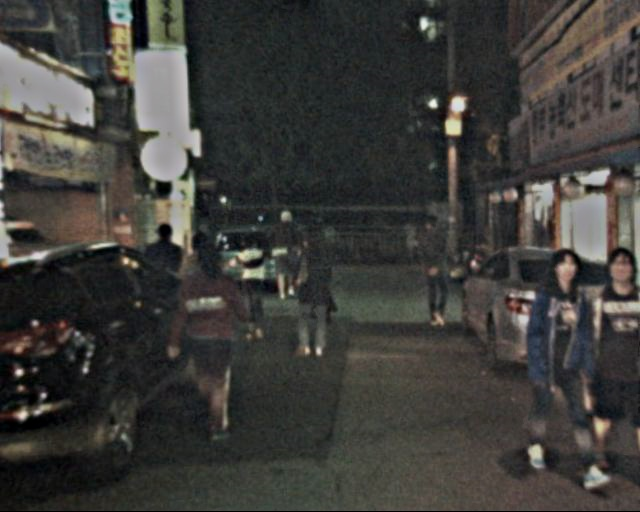person: (519, 239, 595, 482), (565, 248, 640, 485), (170, 237, 250, 444), (175, 228, 231, 377), (139, 220, 195, 359), (282, 232, 334, 368), (411, 213, 458, 327), (232, 236, 275, 341), (263, 206, 305, 308)
